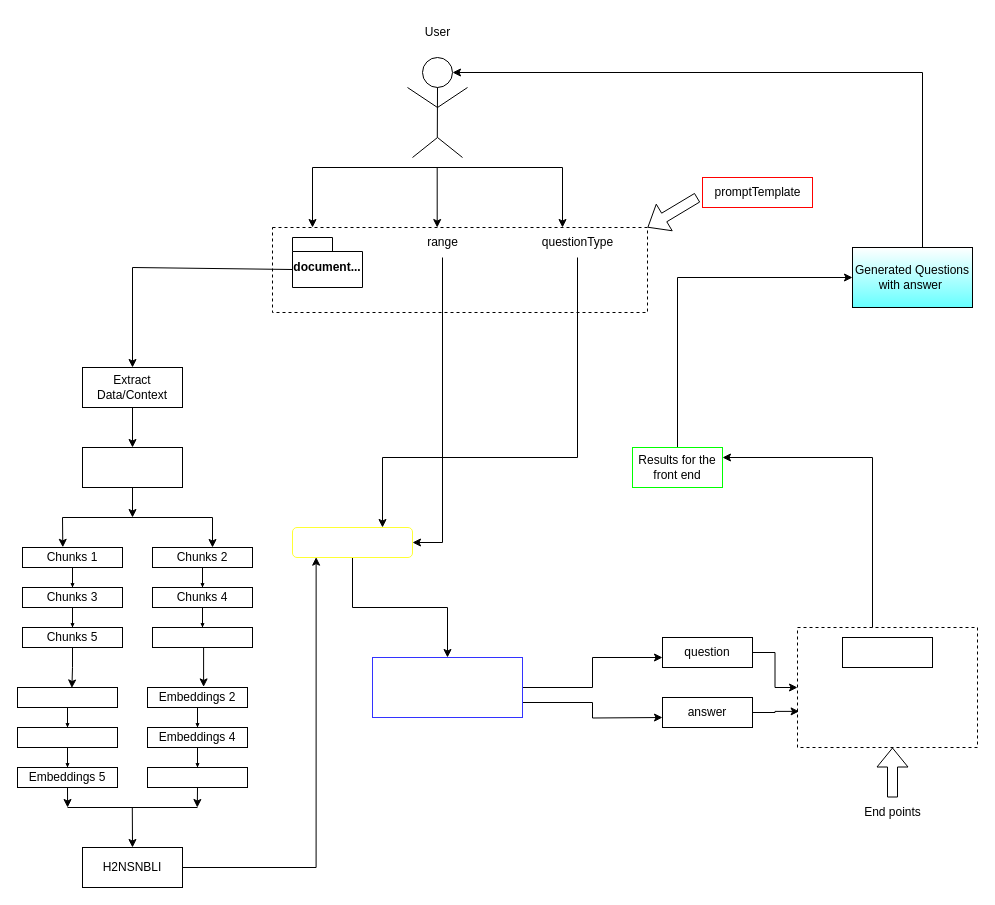
Some shapes in this 995 by 905 pixel diagram are drawn without their labels. Here are the shapes that lost their labels. From the top down, the centre of each, then its label:
point 132,467: Split in chunks
point 352,542: Build semantic Index
point 202,637: Chunks 6
point 887,652: pdf format
point 67,697: Embeddings 1
point 447,687: LLM/ Ollama / orca mini
point 67,737: Embeddings 3
point 197,777: Embeddings 6
